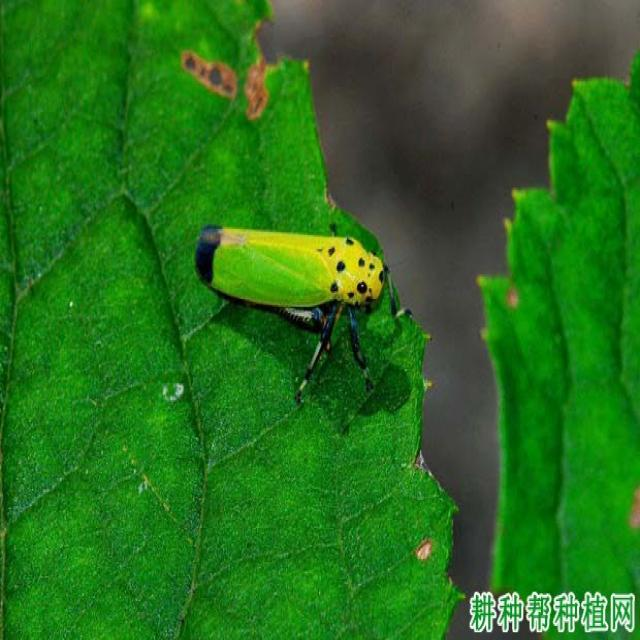Yechan: (182, 210, 402, 350)
